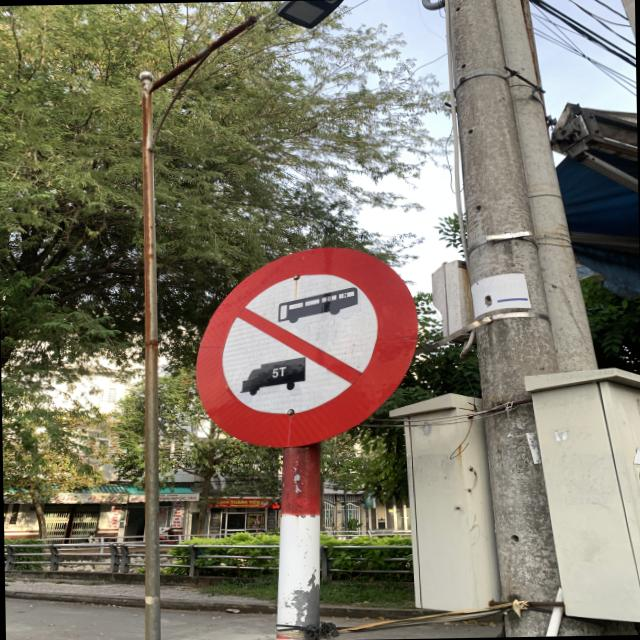Cam_XeTai_XeKhach: (198, 244, 416, 446)
